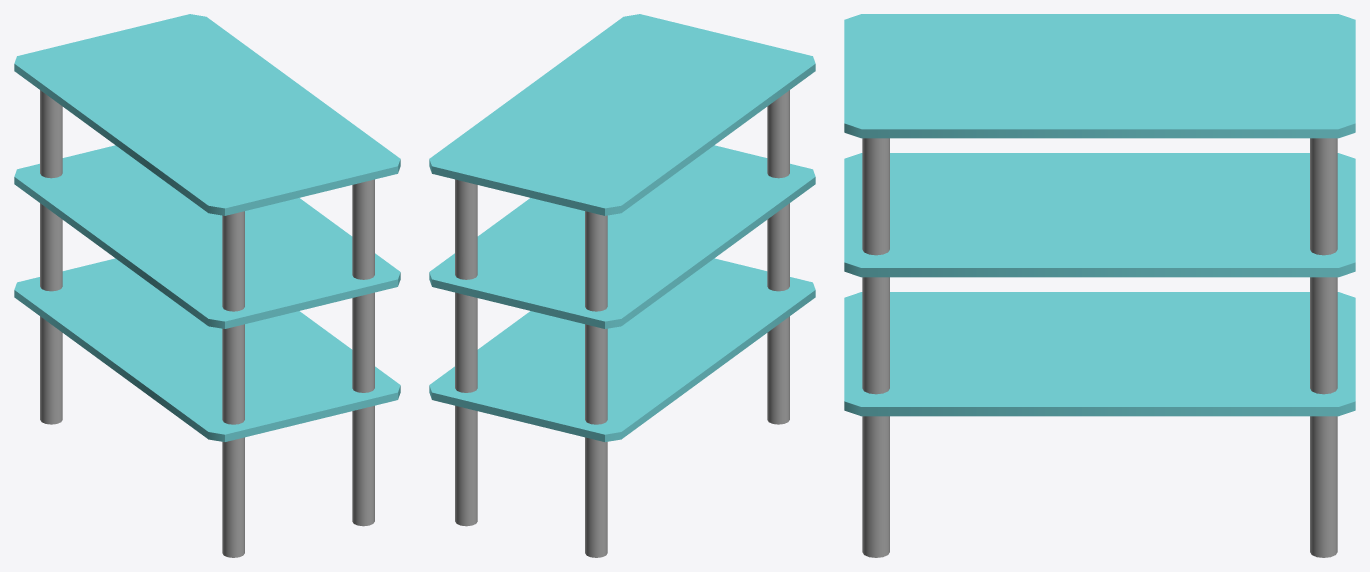
File: ShelfV2.fbx
3 views of the same model, side by side, from view 1: azimuth 30°, elevation 25°; view 2: azimuth 150°, elevation 25°; view 3: azimuth 270°, elevation 25° (orthographic). The views are drawn at different scales.
Visible parts, largest first — view 1: ShelfV2; view 2: ShelfV2; view 3: ShelfV2.
Part boxes in pixels (box(x1,y1,x2,y2)): ShelfV2: box(14, 14, 400, 557); ShelfV2: box(429, 14, 815, 557); ShelfV2: box(844, 14, 1355, 557).
Size of the model in its own units: 80 by 143 by 150.
